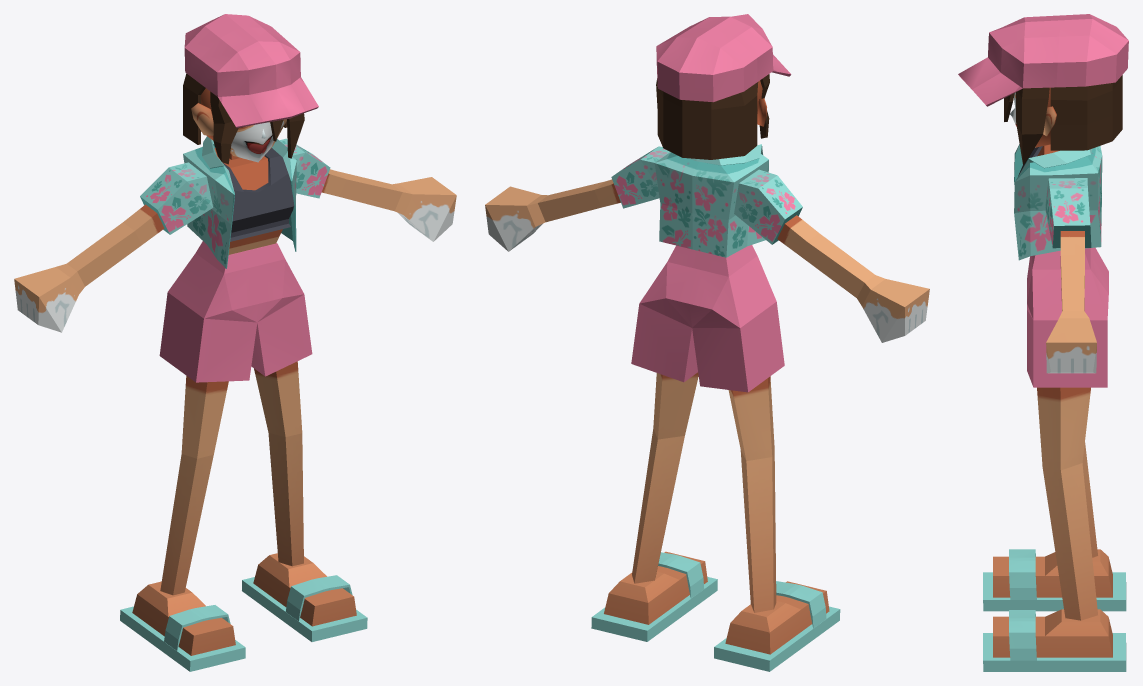
Rendered from Melee Zombie Female fix bra.fbx.
3 renders of one model, left to right at view 1: azimuth 30°, elevation 25°; view 2: azimuth 150°, elevation 25°; view 3: azimuth 270°, elevation 25°, orthographic.
Parts seen in each view (by area): view 1: hat, Skirt Legging right, Female Songkran.001, Lower_Right_Leg, Short.002, Skirt Legging left, Lower_Left_Leg, Bra.001, Right_ Foot, Left_Foot, Right_Hand, Female Songkran Right.001 (+13 smaller); view 2: Skirt Legging right, Female Songkran.001, hat, hair, Lower_Right_Leg, Skirt Legging left, Lower_Left_Leg, Short.002, Right_ Foot, Left_Foot, Right_Hand, Right__Flipflop.002 (+9 smaller); view 3: hat, hair, Female Songkran.001, Skirt Legging left, Lower_Left_Leg, Left__Flipflop.001, Left_Foot, Upper_Left_Leg.001, Right__Flipflop.002, Left_Hand, Female Songkran Left.001, Right_ Foot (+5 smaller).
Part boxes in pixels (box(x1,y1,x2,y2)): hat: box(184, 14, 318, 127); Skirt Legging right: box(159, 253, 257, 382); Female Songkran.001: box(183, 136, 296, 268); Lower_Right_Leg: box(160, 454, 213, 595); Short.002: box(196, 241, 285, 322); Skirt Legging left: box(251, 259, 312, 376); Lower_Left_Leg: box(268, 432, 303, 566); Bra.001: box(222, 147, 294, 241); Right_ Foot: box(132, 581, 235, 655); Left_Foot: box(253, 553, 356, 626); Right_Hand: box(14, 263, 84, 332); Female Songkran Right.001: box(140, 162, 213, 234); Skirt Legging right: box(692, 256, 784, 392); Female Songkran.001: box(654, 144, 768, 257); hat: box(656, 14, 791, 102); hair: box(656, 74, 769, 159); Lower_Right_Leg: box(740, 450, 776, 612); Skirt Legging left: box(631, 262, 697, 382); Lower_Left_Leg: box(632, 428, 684, 583); Short.002: box(666, 245, 757, 327); Right_ Foot: box(725, 581, 829, 654); Left_Foot: box(604, 551, 707, 624); Right_Hand: box(857, 275, 929, 342); Right__Flipflop.002: box(714, 581, 840, 671); hat: box(958, 14, 1128, 106); hair: box(1004, 75, 1122, 164); Female Songkran.001: box(1014, 144, 1102, 260); Skirt Legging left: box(1027, 269, 1108, 387); Lower_Left_Leg: box(1042, 463, 1097, 620); Left__Flipflop.001: box(983, 610, 1126, 671); Left_Foot: box(993, 609, 1112, 657); Upper_Left_Leg.001: box(1037, 387, 1090, 470); Right__Flipflop.002: box(983, 549, 1126, 611); Left_Hand: box(1046, 311, 1096, 373); Female Songkran Left.001: box(1045, 178, 1091, 248); Right_ Foot: box(993, 549, 1112, 597).
Size of the model in its own units: 128 by 175 by 44.39.
8 materials, 8 textured.
